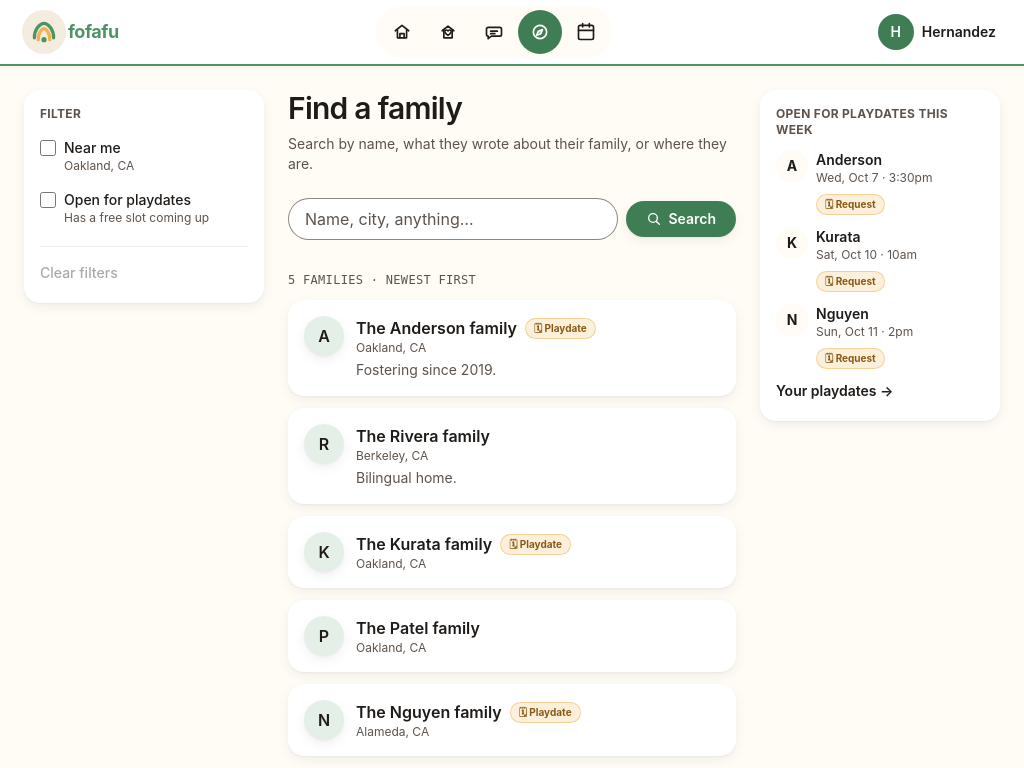
Test: SearchPage filters › narrows the list to the user's city and state with Near me
What coordinates should you click on to do the following:
click the checkbox labelled "Near me"
I would click on:
 (48, 148)
Its box is [40,140,56,156].
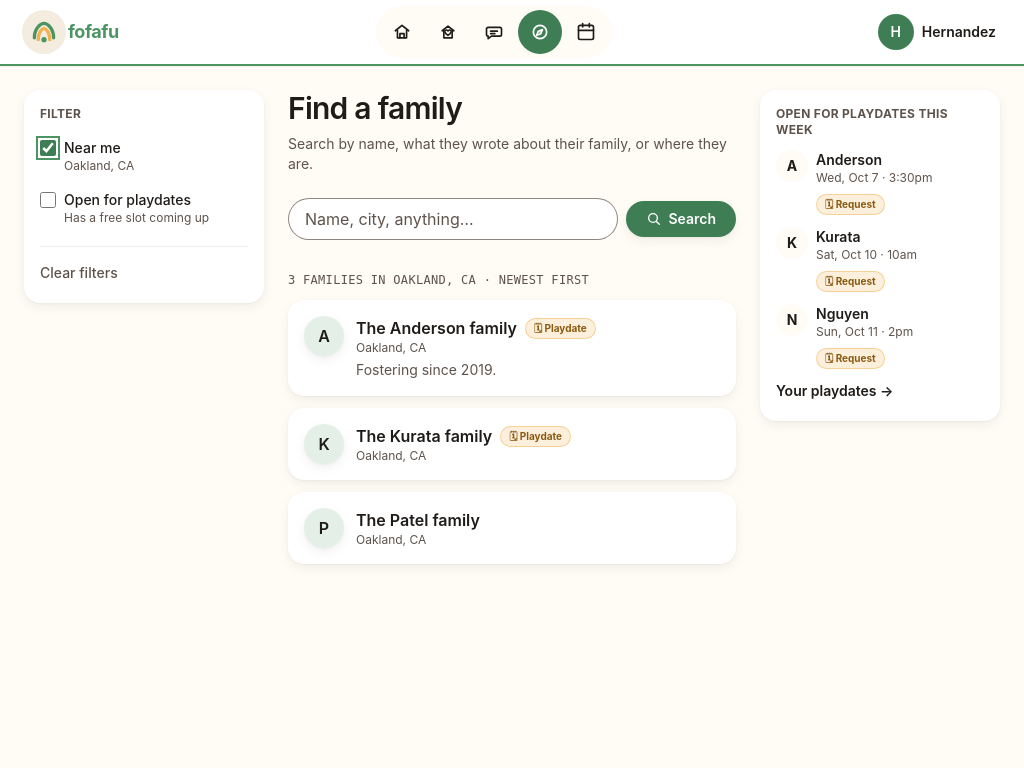
Expected: the message reads "3 families in Oakland, CA", [288,273,476,287]
